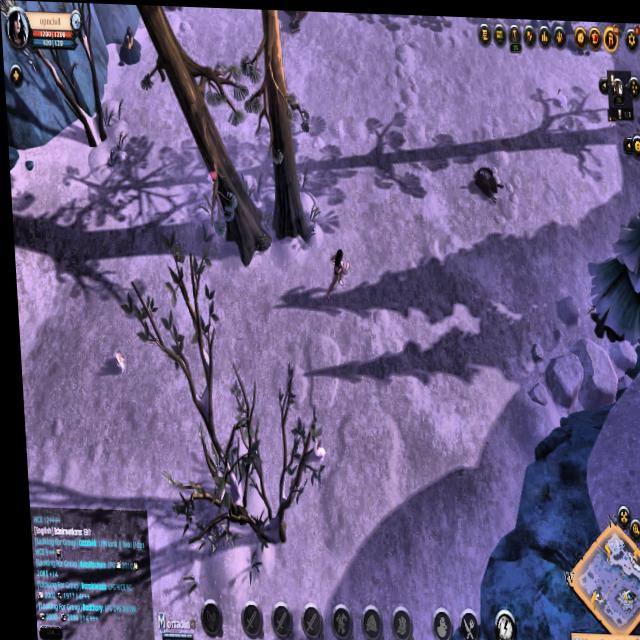copper_ore: (115, 18, 145, 73)
